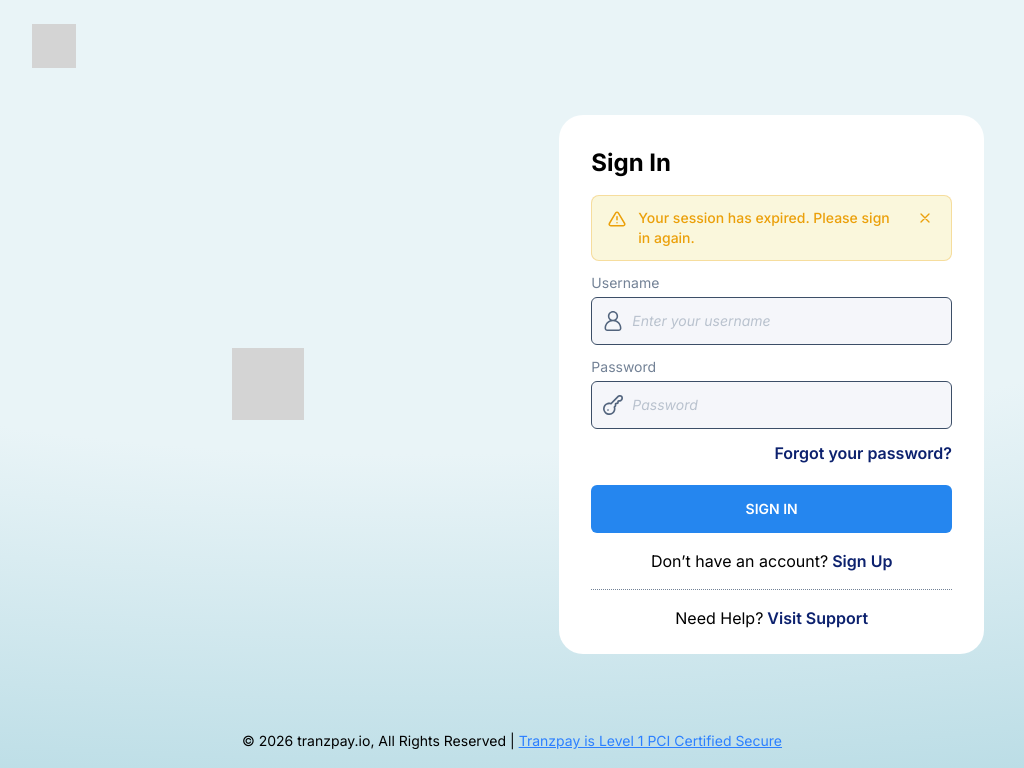
Test case: LoginPage › lockout UI › does not show the logout banner while locked
Type "locked.user@example.com" into the field with placeholder "Enter your username" at (772, 320), box [591, 296, 952, 344]
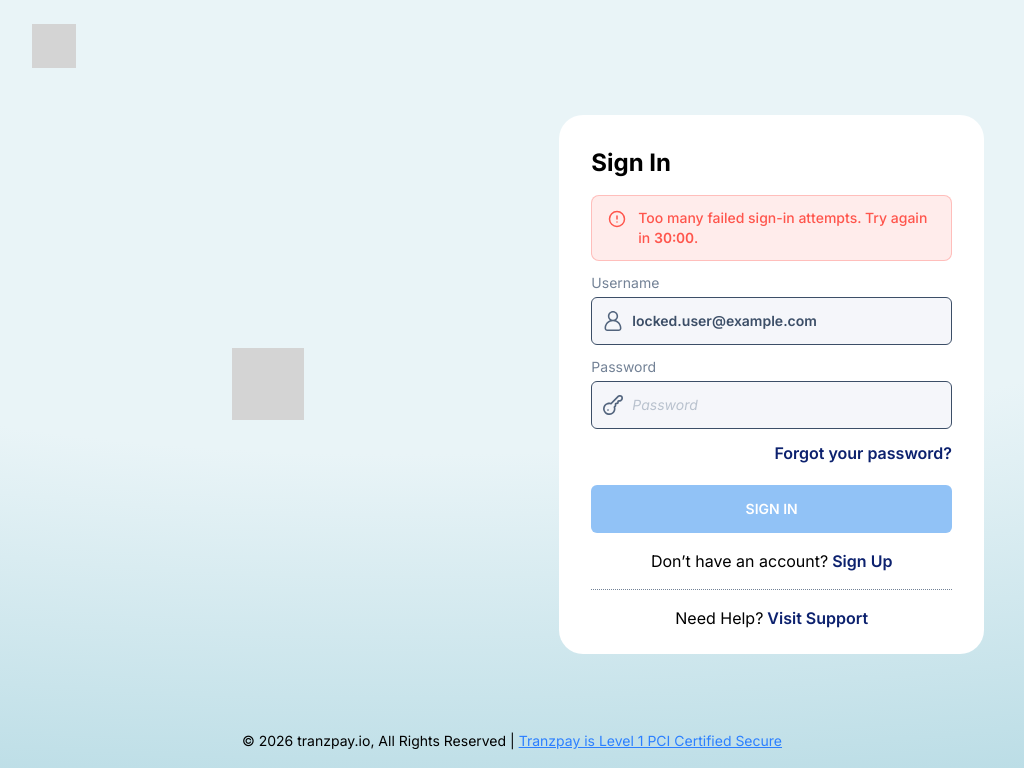
Expected: the message shows "Too many failed sign-in attempts. Try again in", [638, 208, 927, 246]
Expected: the text "Your session has expired. Please sign in again." is gone
